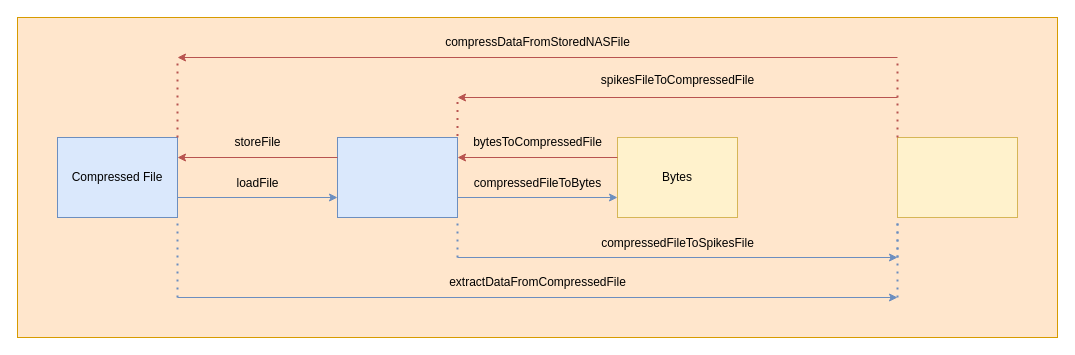
Image size: 1075x355. Some labels were removed from this diagram. Here are the shapes that lost their labels. From the top down, the centre of each, then its label:
At [397,177]: "Compressed data + CompressedFileHeader".
At [957,177]: "SpikesFile".
